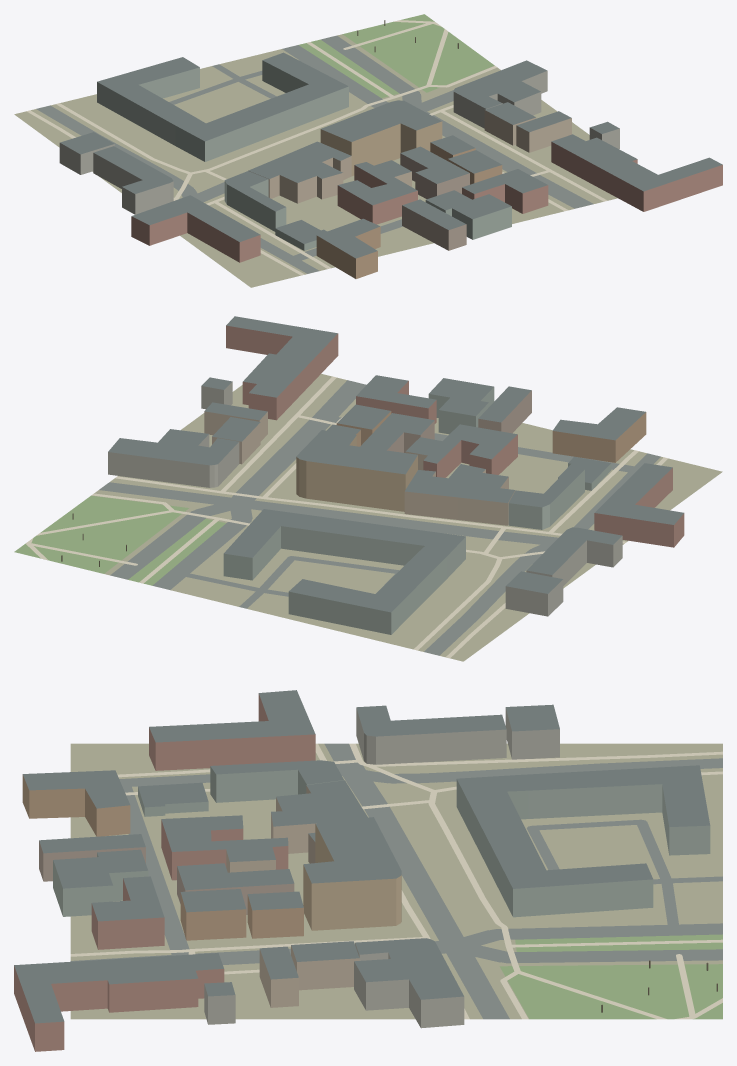
Rendered from sector-1_-4.glb.
3 renders of one model, top to bottom at view 1: azimuth 30°, elevation 25°; view 2: azimuth 150°, elevation 25°; view 3: azimuth 270°, elevation 25°, orthographic. The views are drawn at different scales.
Parts seen in each view (by area): view 1: 1:-4-facade, 1:-4-roof, 1:-4-ground, 1:-4-road, 1:-4-park, 1:-4-paving; view 2: 1:-4-facade, 1:-4-roof, 1:-4-ground, 1:-4-road, 1:-4-park, 1:-4-paving; view 3: 1:-4-facade, 1:-4-roof, 1:-4-ground, 1:-4-road, 1:-4-park, 1:-4-paving.
Boxes of the visible parts, x1,y1,x2,y2 form: 1:-4-facade: (59,60,722,278); 1:-4-roof: (60,52,722,258); 1:-4-ground: (14,34,617,287); 1:-4-road: (36,35,593,273); 1:-4-park: (299,14,494,98); 1:-4-paving: (26,20,607,275); 1:-4-facade: (108,325,684,634); 1:-4-roof: (108,316,683,612); 1:-4-ground: (91,373,722,661); 1:-4-road: (99,380,660,655); 1:-4-park: (14,495,225,585); 1:-4-paving: (26,376,667,658); 1:-4-facade: (14,693,710,1051); 1:-4-roof: (14,690,710,1023); 1:-4-ground: (70,743,722,1019); 1:-4-road: (70,743,722,1019); 1:-4-park: (499,934,722,1019); 1:-4-paving: (70,743,722,1019).
Size of the model in its own units: 242 by 16 by 217.
